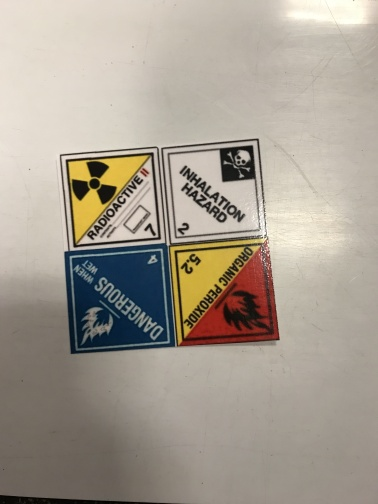InfectiousSubstance: (63, 247, 175, 352)
InhalationHazard: (161, 138, 268, 243)
OrganicPeroxide: (169, 238, 280, 345)
Radioactive: (59, 146, 173, 247)
